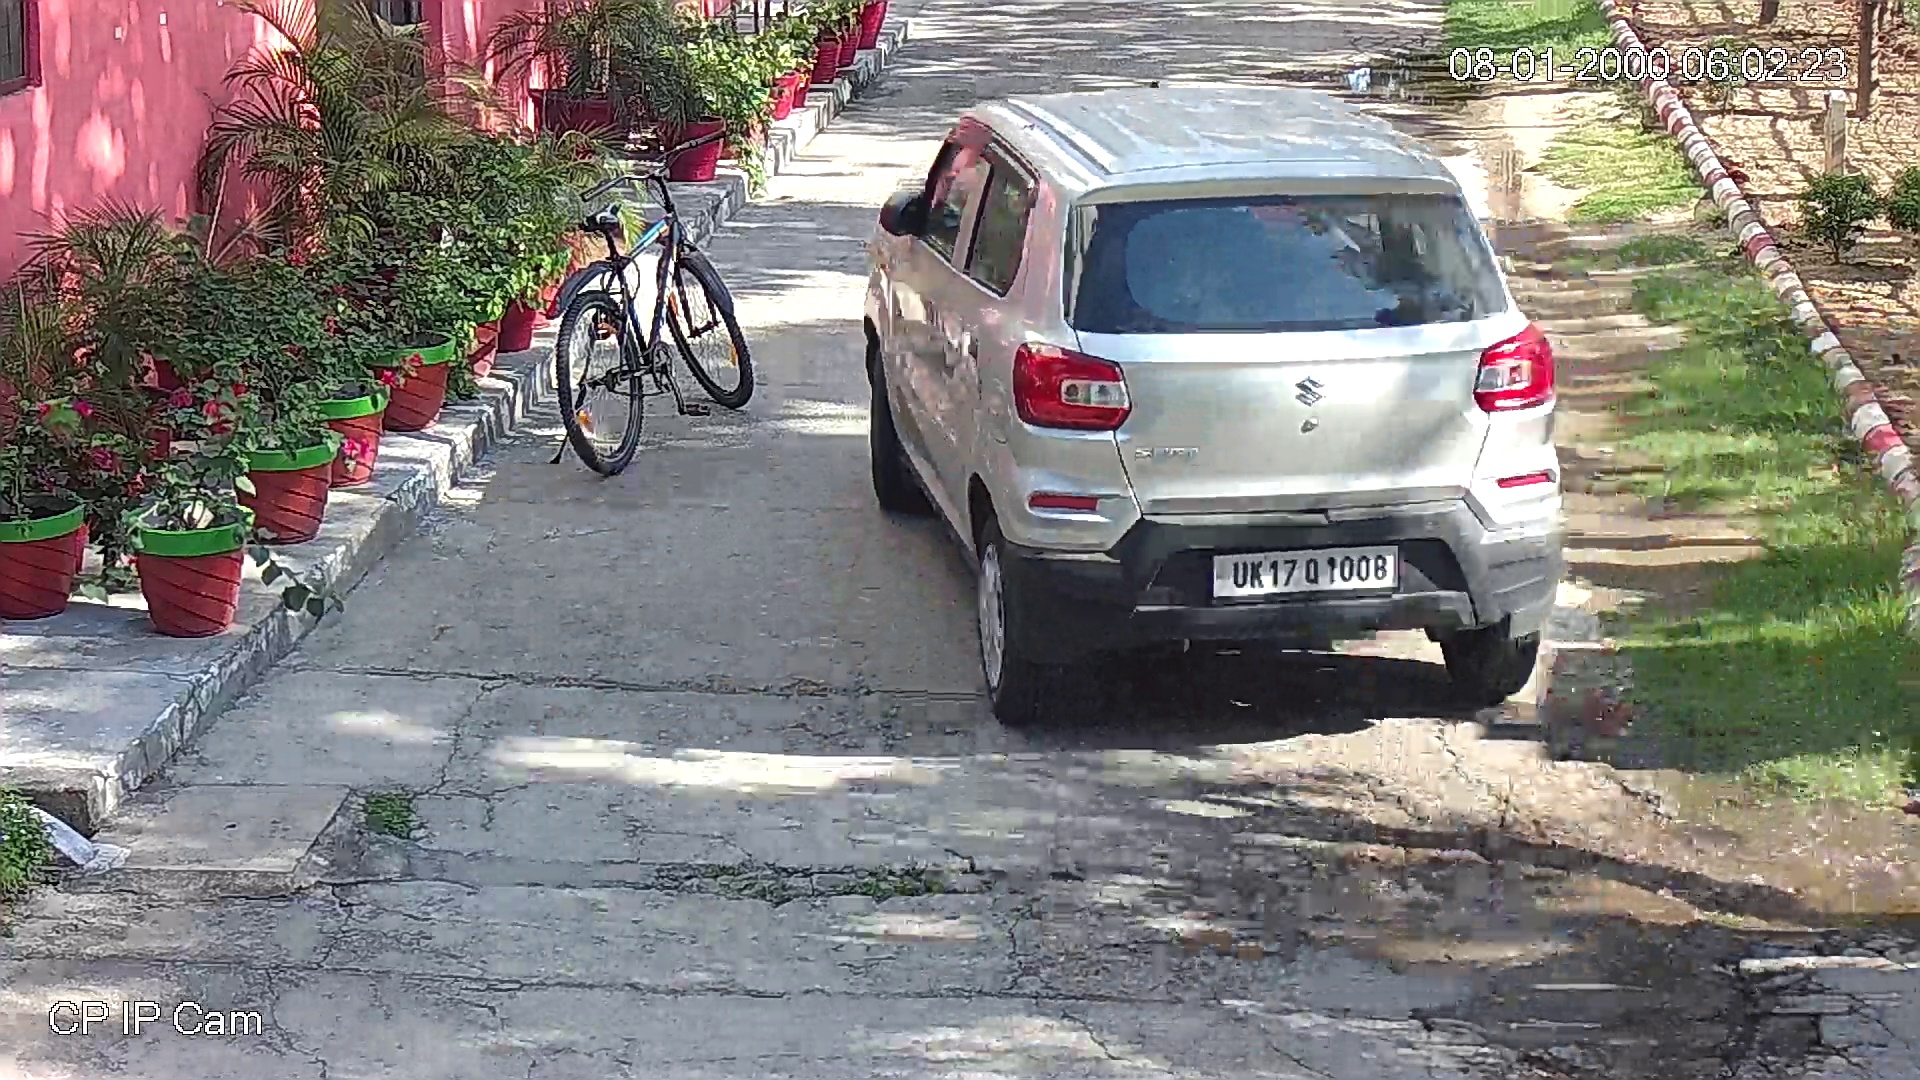plate: (1208, 535, 1403, 606)
